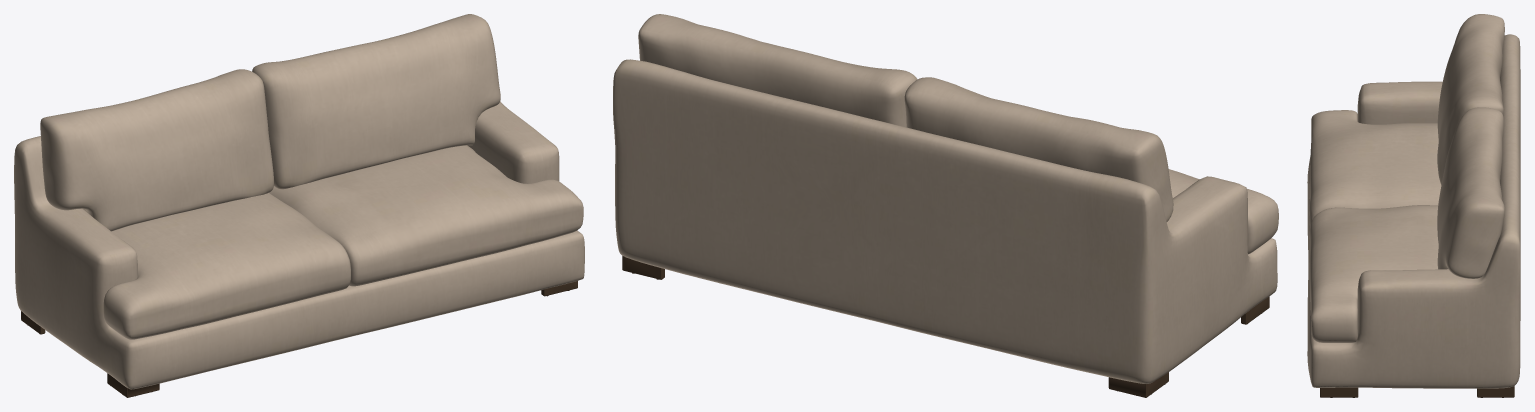
The model's file is sofa_B072M1W877.glb.
3 views of the same model, side by side, from view 1: azimuth 30°, elevation 25°; view 2: azimuth 150°, elevation 25°; view 3: azimuth 270°, elevation 25° (orthographic). The views are drawn at different scales.
Parts seen in each view (by area): view 1: RootNode; view 2: RootNode; view 3: RootNode.
Boxes of the visible parts, x1,y1,x2,y2 form: RootNode: (14,14,584,397); RootNode: (613,14,1278,397); RootNode: (1307,14,1520,397).
Size of the model in its own units: 2.15 by 0.9254 by 0.9291.
1 material, 1 textured.
